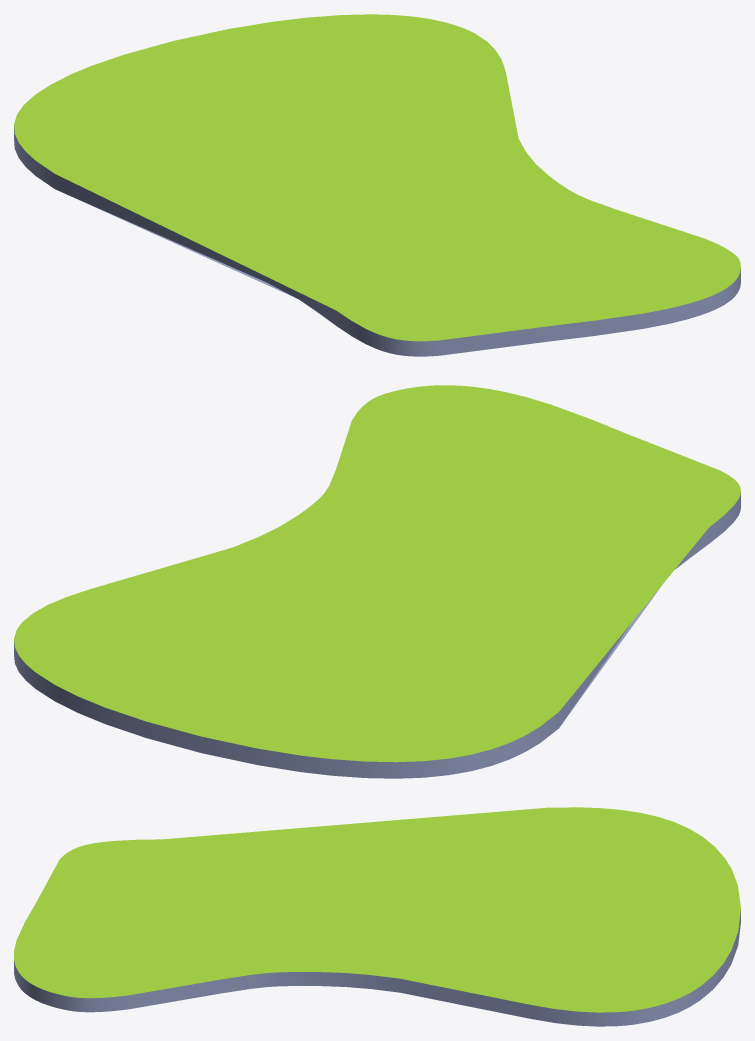
File: Lastholes26.fbx
3 renders of one model, top to bottom at view 1: azimuth 30°, elevation 25°; view 2: azimuth 150°, elevation 25°; view 3: azimuth 270°, elevation 25°, orthographic. The views are drawn at different scales.
Parts seen in each view (by area): view 1: mainRes_2; view 2: mainRes_2; view 3: mainRes_2.
Boxes of the visible parts, x1,y1,x2,y2 form: mainRes_2: (14,14,740,356); mainRes_2: (14,385,740,778); mainRes_2: (14,807,740,1026).
Size of the model in its own units: 942 by 30 by 1411.
